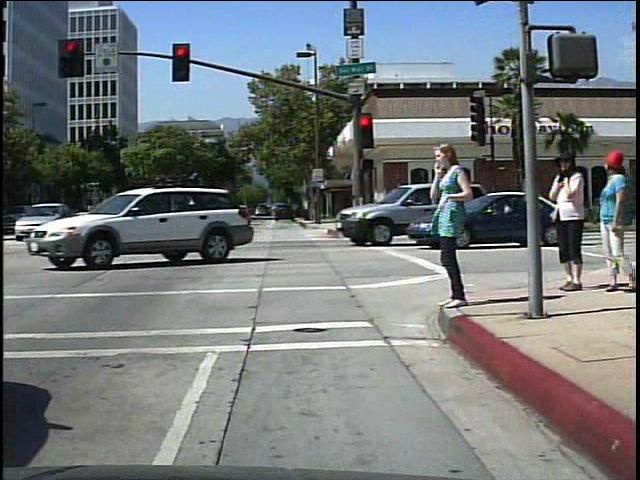person: (426, 136, 478, 311), (545, 147, 591, 296), (591, 146, 630, 296)
